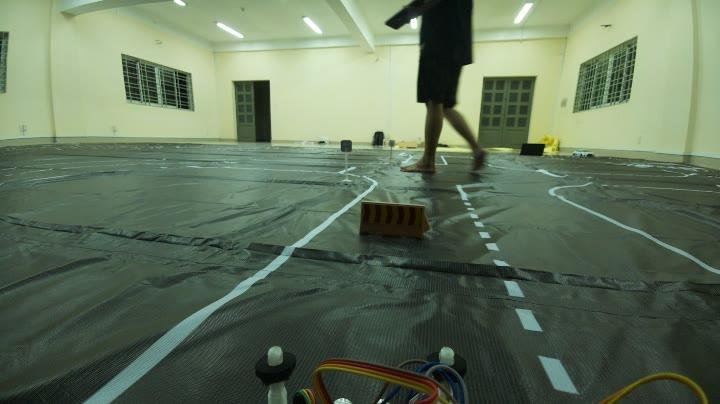roadblock: (352, 193, 439, 245)
